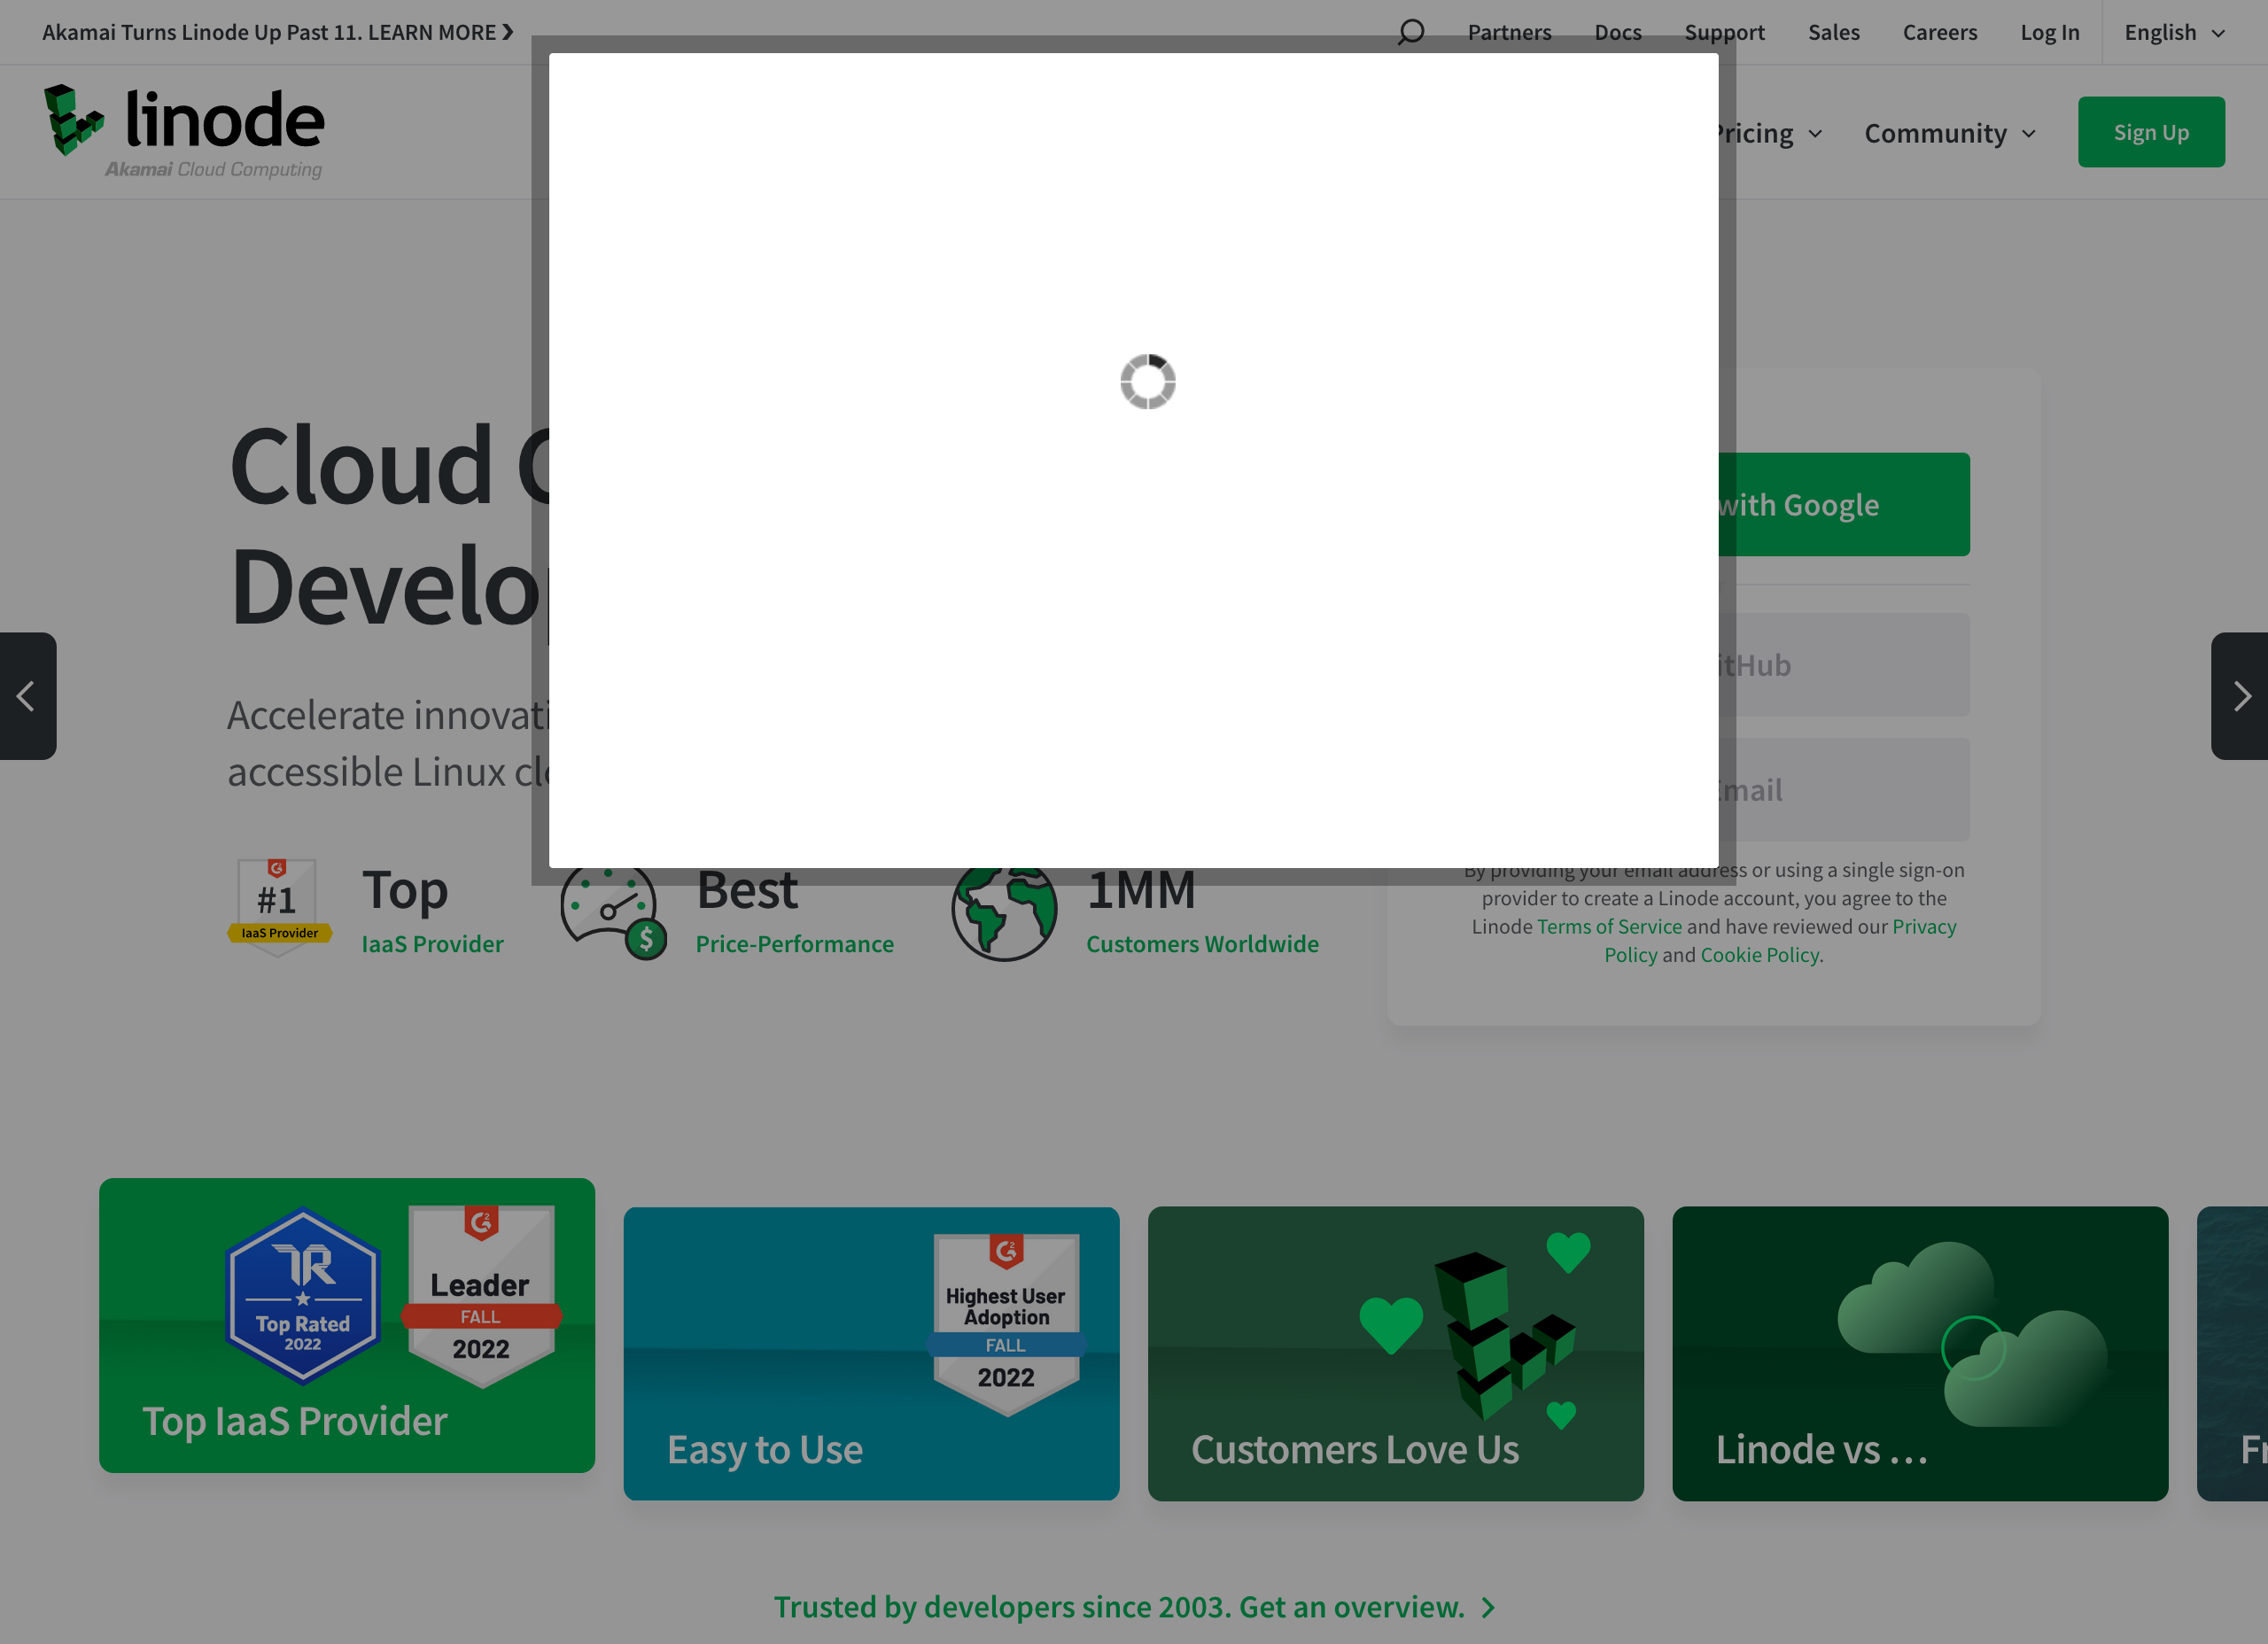Login: (2013, 12, 2092, 53)
